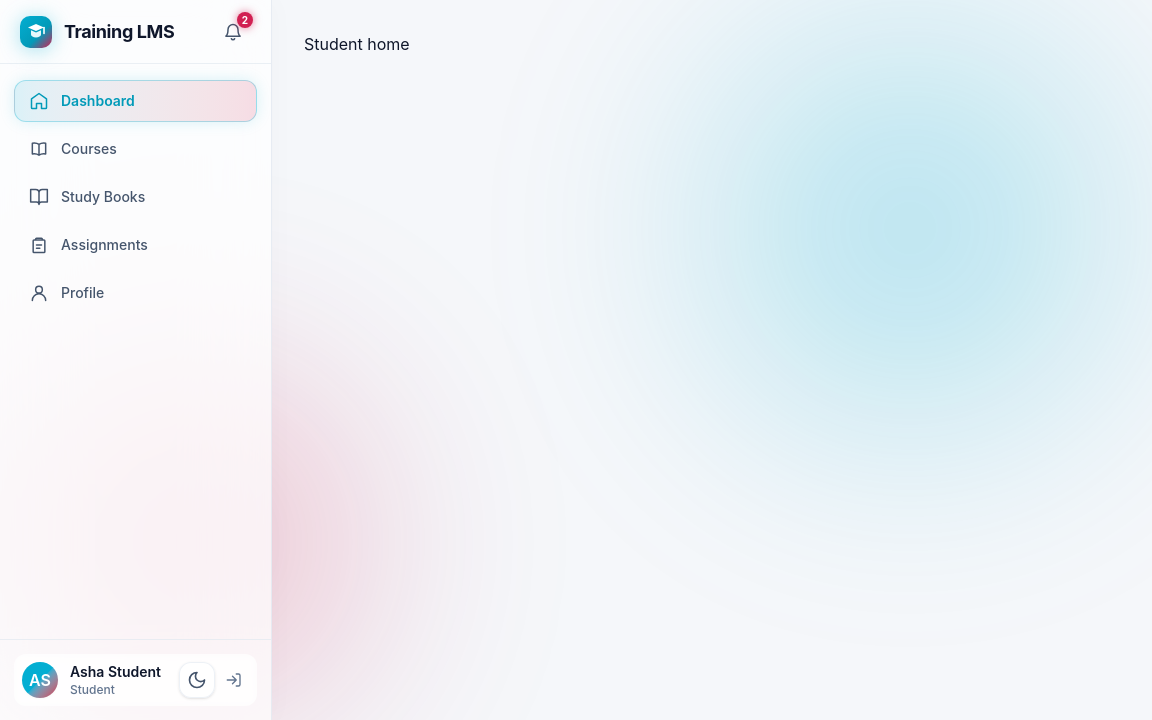
Test case: notification bell › marks everything read
Click the button named "Notifications, 2 unread" at (233, 32), box x1=215 y1=14 x2=251 y2=50
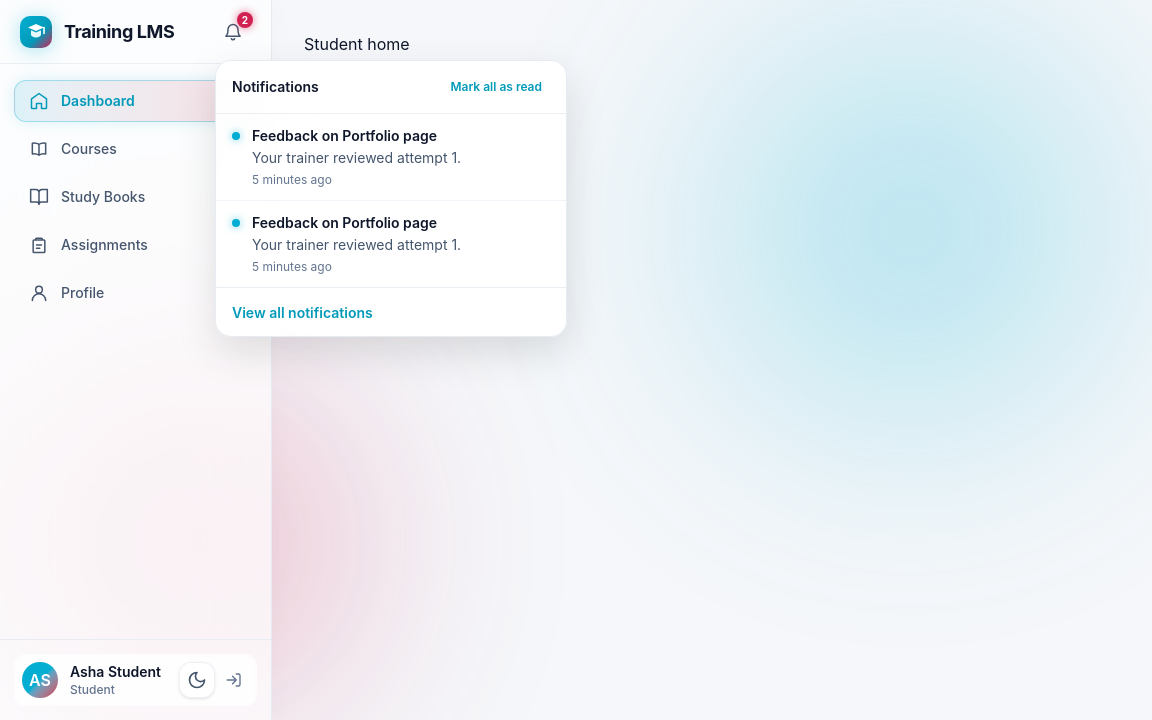
Click the button "Mark all as read" at (496, 86), box x1=442 y1=74 x2=550 y2=98
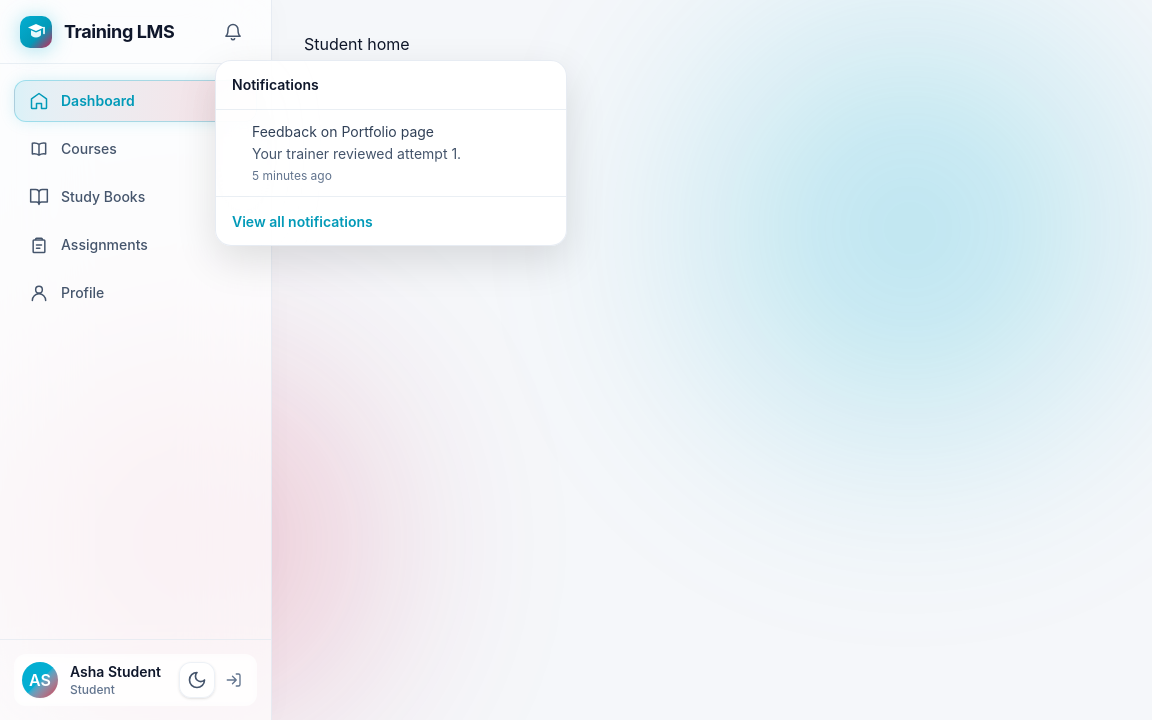
Expected: the button named "Notifications" is shown, x1=215 y1=14 x2=251 y2=50
Expected: the button "Mark all as read" is gone
